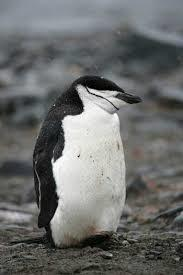chinstrap: (16, 61, 152, 261)
